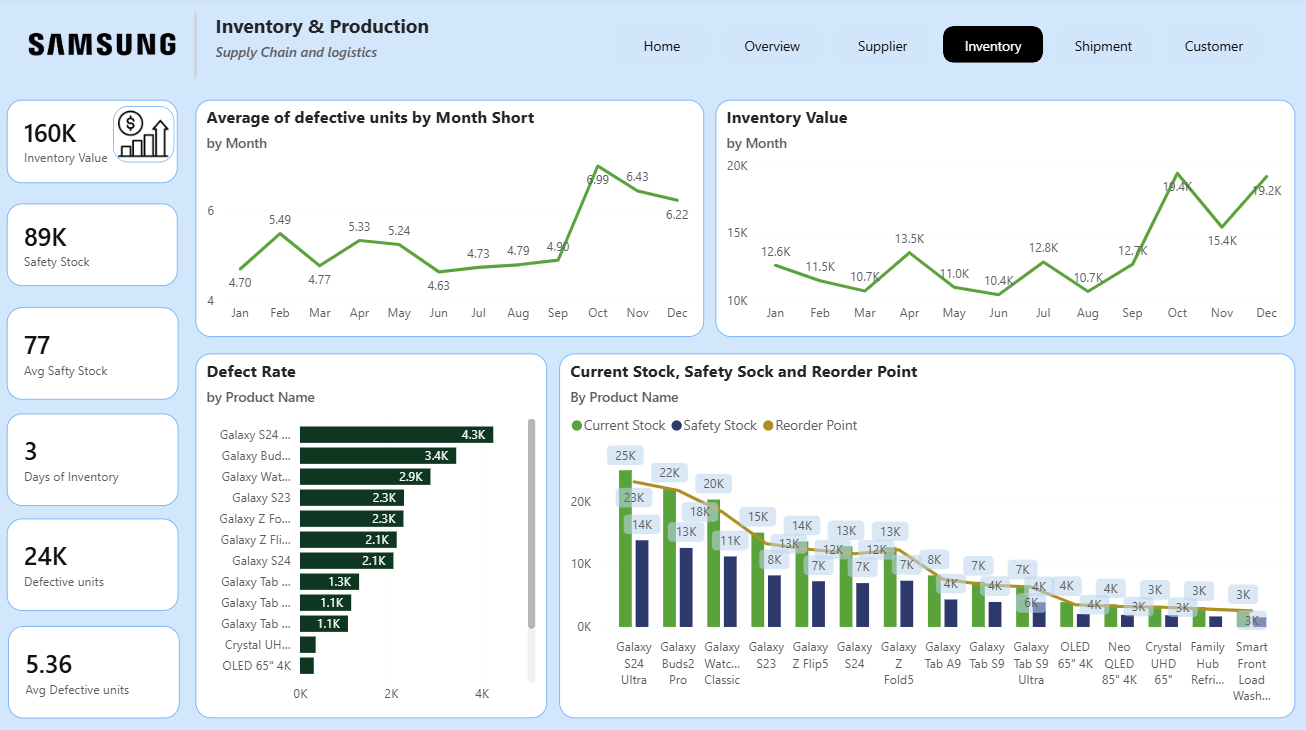

This screenshot's page, from the dashboard's own definition file:
{"tool":"powerbi","page":{"name":"Inventory","canvas":[1280,720],"ordinal":3},"visuals":[{"type":"textbox","title":"Inventory & Production","box":[207.9,15.9,220.1,80],"z":0},{"type":"shape","box":[178.5,15.9,29.3,63.6],"z":1000},{"type":"image","box":[18.8,23.8,160,47.5],"z":2000},{"type":"cardVisual","fields":{"Data":["MeasuresTable.Avg Safty Stock Level"]},"box":[9.1,305,168,90],"z":3000},{"type":"cardVisual","fields":{"Data":["MeasuresTable.Days of Inventory"]},"box":[9.1,409,168,90],"z":4000},{"type":"cardVisual","fields":{"Data":["Sum(Fact_production.defective_units)"]},"box":[9.1,511.7,168,90],"z":5000},{"type":"cardVisual","fields":{"Data":["Avg(Fact_production.defective_units)"]},"box":[10.4,615.7,168,90],"z":6000},{"type":"clusteredBarChart","title":"Defect Rate","fields":{"Y":["MeasuresTable.Defect_Rate"],"Category":["Dim_product.product_name"]},"box":[193.2,349.7,343.6,357.1],"z":7000},{"type":"group","id":"g1","title":"Group 1","box":[8.9,101.1,167.2,81.7],"z":8000},{"type":"group","id":"g2","title":"Group 2","box":[8.8,202.5,167.5,81],"z":9000},{"type":"lineClusteredColumnComboChart","title":"Current Stock, Safety Sock and Reorder Point","fields":{"Category":["Dim_product.product_name"],"Y":["Sum(Fact_inventory.stock_level)","Sum(Fact_inventory.safety_stock_level)"],"Y2":["MeasuresTable.Reorder Point"]},"box":[549.1,349.7,720.2,357.1],"z":10000},{"type":"lineChart","title":"Average of defective units by Month Short","fields":{"Y":["Avg(Fact_production.defective_units)"],"Category":["Dim_date.Month Short"]},"box":[193.2,101.5,497.7,232.3],"z":11000},{"type":"lineChart","title":"Inventory Value","fields":{"Category":["Dim_date.Month Short"],"Y":["MeasuresTable.Inventory_Value"]},"box":[701.9,101.5,567.4,232.3],"z":12000},{"type":"pageNavigator","box":[600.7,28.9,641.4,36.8],"z":13000},{"type":"cardVisual","fields":{"Data":["MeasuresTable.Safety stock"]},"box":[8.8,202.5,167.5,81],"z":19000,"group":"g2"},{"type":"cardVisual","fields":{"Data":["MeasuresTable.Inventory_Value"]},"box":[8.9,101.1,167.2,81.7],"z":24000,"group":"g1"},{"type":"image","box":[113.1,107.5,60,55],"z":41000,"group":"g1"}]}

Visuals, with their boxes in screenshot pixels (x1, y1, x2, y2), scaled from the page's 1280x720 canvas onto the 1306x730 screenshot:
"Inventory & Production" textbox: (x1=212, y1=16, x2=437, y2=97)
shape: (x1=182, y1=16, x2=212, y2=81)
image: (x1=19, y1=24, x2=182, y2=72)
cardVisual - MeasuresTable.Avg Safty Stock Level: (x1=9, y1=309, x2=181, y2=400)
cardVisual - MeasuresTable.Days of Inventory: (x1=9, y1=415, x2=181, y2=506)
cardVisual - Sum(Fact_production.defective_units): (x1=9, y1=519, x2=181, y2=610)
cardVisual - Avg(Fact_production.defective_units): (x1=11, y1=624, x2=182, y2=716)
"Defect Rate" clusteredBarChart: (x1=197, y1=355, x2=548, y2=717)
"Group 1" group: (x1=9, y1=103, x2=180, y2=185)
"Group 2" group: (x1=9, y1=205, x2=180, y2=287)
"Current Stock, Safety Sock and Reorder Point" lineClusteredColumnComboChart: (x1=560, y1=355, x2=1295, y2=717)
"Average of defective units by Month Short" lineChart: (x1=197, y1=103, x2=705, y2=338)
"Inventory Value" lineChart: (x1=716, y1=103, x2=1295, y2=338)
pageNavigator: (x1=613, y1=29, x2=1267, y2=67)
cardVisual - MeasuresTable.Safety stock: (x1=9, y1=205, x2=180, y2=287)
cardVisual - MeasuresTable.Inventory_Value: (x1=9, y1=103, x2=180, y2=185)
image: (x1=115, y1=109, x2=177, y2=165)
